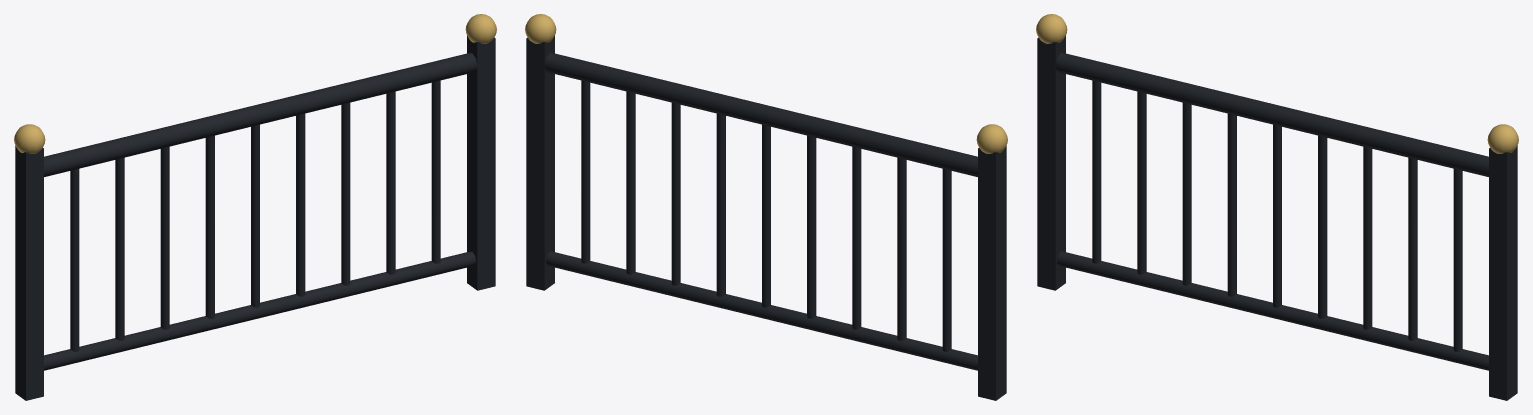
Rendered from fence-railing.glb.
3 views of the same model, side by side, from view 1: azimuth 30°, elevation 25°; view 2: azimuth 150°, elevation 25°; view 3: azimuth 330°, elevation 25° (orthographic).
Size of the model in its own units: 2.12 by 1.14 by 0.12.
